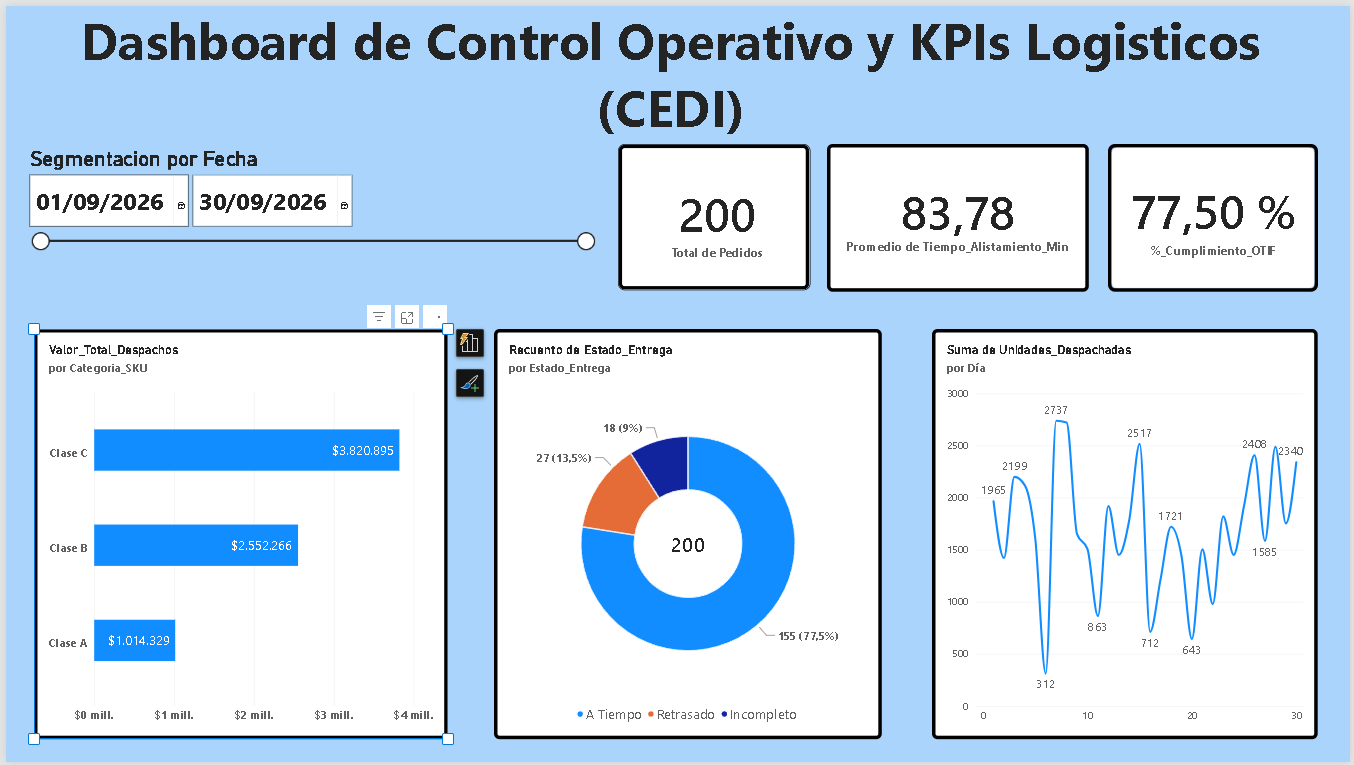

The page's visual inventory and layout, read from the dashboard file:
{"tool":"powerbi","page":{"name":"Página 1","canvas":[1920,1080],"ordinal":0},"visuals":[{"type":"cardVisual","title":"Total de Pedidos","fields":{"Data":["CountNonNull(datos_logistica_cedi.ID_Pedido)"]},"box":[874.3,197.1,274.6,209.1],"z":0},{"type":"cardVisual","fields":{"Data":["datos_logistica_cedi.%_Cumplimiento_OTIF"]},"box":[1574.3,197.1,300,211.4],"z":1},{"type":"card","fields":{"Values":["Avg(datos_logistica_cedi.Tiempo_Alistamiento_Min)"]},"box":[1172.9,197.1,374.3,211.4],"z":2},{"type":"clusteredBarChart","fields":{"Category":["datos_logistica_cedi.Categoria_SKU"],"Y":["datos_logistica_cedi.Valor_Total_Despachos"]},"box":[40,461.4,591.4,585.7],"z":3},{"type":"donutChart","fields":{"Category":["datos_logistica_cedi.Estado_Entrega"],"Y":["CountNonNull(datos_logistica_cedi.Estado_Entrega)"]},"box":[697.1,461.4,554.3,585.7],"z":4},{"type":"lineChart","fields":{"Category":["datos_logistica_cedi.Fecha.Variación.Jerarquía de fechas.Día"],"Y":["Sum(datos_logistica_cedi.Unidades_Despachadas)"]},"box":[1322.9,461.4,551.4,585.7],"z":5},{"type":"textbox","box":[25.7,0,1848.6,200],"z":6},{"type":"slicer","fields":{"Values":["datos_logistica_cedi.Fecha"]},"box":[25.7,200,818.6,261.4],"z":7}]}

Visuals, with their boxes in screenshot pixels (x1, y1, x2, y2), scaled from the page's 1920x1080 canvas onto the 1354x765 screenshot:
"Total de Pedidos" cardVisual: l=617, t=140, r=810, b=288
cardVisual - datos_logistica_cedi.%_Cumplimiento_OTIF: l=1110, t=140, r=1322, b=289
card - Avg(datos_logistica_cedi.Tiempo_Alistamiento_Min): l=827, t=140, r=1091, b=289
clusteredBarChart - datos_logistica_cedi.Categoria_SKU x datos_logistica_cedi.Valor_Total_Despachos: l=28, t=327, r=445, b=742
donutChart - datos_logistica_cedi.Estado_Entrega x CountNonNull(datos_logistica_cedi.Estado_Entrega): l=492, t=327, r=882, b=742
lineChart - datos_logistica_cedi.Fecha.Variación.Jerarquía de fechas.Día x Sum(datos_logistica_cedi.Unidades_Despachadas): l=933, t=327, r=1322, b=742
textbox: l=18, t=0, r=1322, b=142
slicer - datos_logistica_cedi.Fecha: l=18, t=142, r=595, b=327
